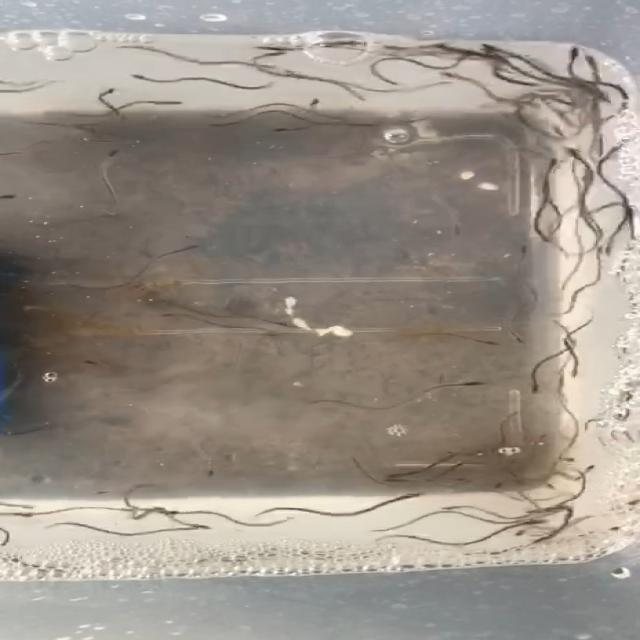inactive_glass_eel: (329, 92, 377, 109), (556, 40, 584, 67), (376, 468, 406, 492), (536, 153, 574, 169), (514, 240, 544, 260), (236, 62, 282, 74), (574, 54, 604, 72), (118, 73, 166, 84), (504, 539, 552, 550), (524, 374, 550, 394), (546, 453, 586, 465), (152, 508, 184, 523), (92, 143, 126, 157), (507, 518, 554, 528), (594, 238, 612, 264), (180, 522, 203, 542), (175, 238, 202, 255), (368, 74, 400, 88), (558, 145, 584, 162), (12, 510, 42, 524), (247, 43, 280, 55), (136, 506, 173, 516), (264, 48, 300, 58), (262, 320, 306, 328), (148, 98, 182, 108), (268, 122, 296, 134), (156, 314, 196, 322), (425, 43, 454, 54), (590, 244, 616, 256), (504, 334, 530, 346), (476, 41, 510, 50), (456, 380, 490, 389), (524, 504, 562, 512), (488, 477, 512, 489), (436, 69, 461, 80), (610, 139, 634, 150), (371, 478, 404, 486), (479, 336, 505, 346), (580, 461, 608, 470), (534, 479, 558, 489), (303, 95, 321, 108), (188, 520, 216, 528), (96, 86, 118, 96), (378, 42, 400, 52), (404, 488, 424, 498), (12, 506, 44, 510)
